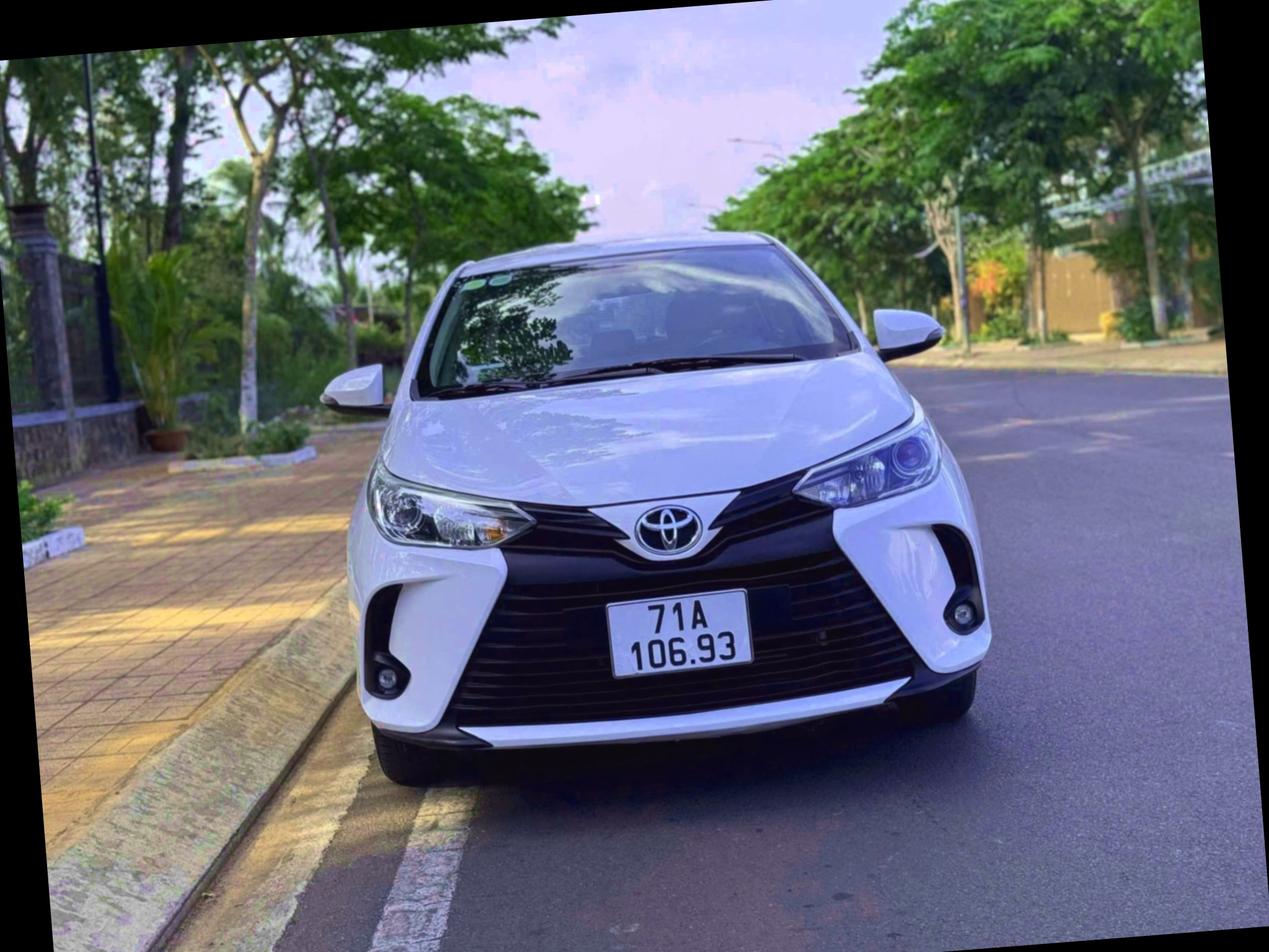Bien-so: (611, 591, 752, 677)
